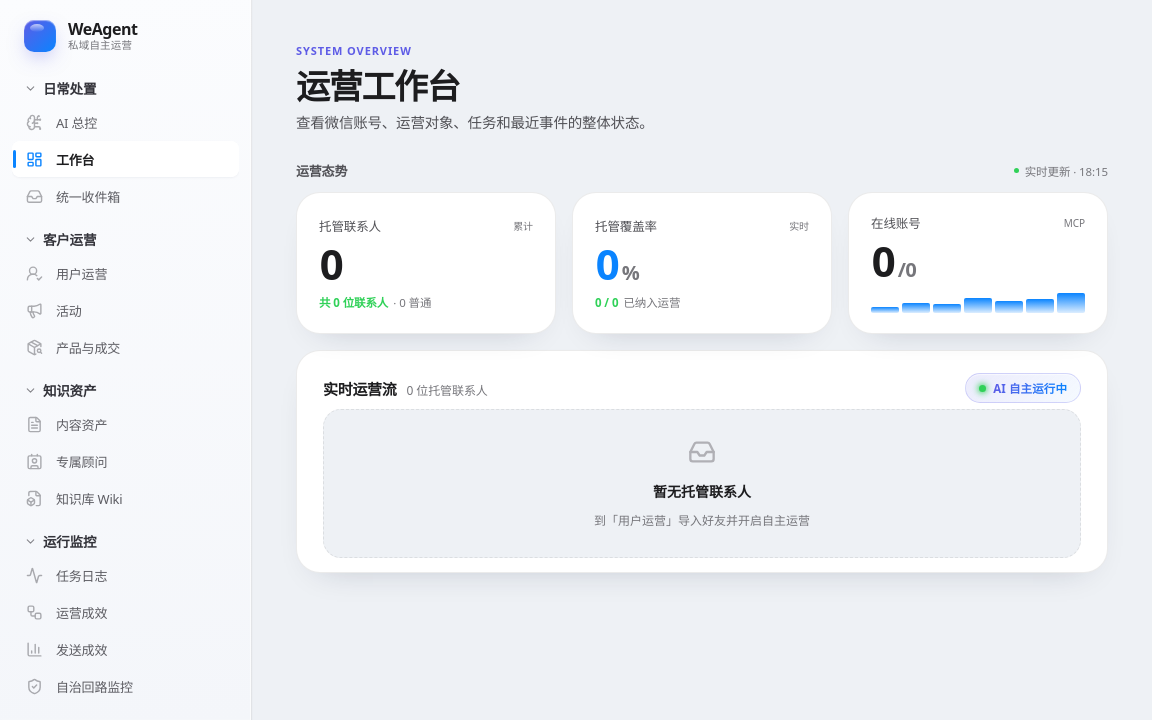
Shell 导航（单列 + 独立折叠） › 同一标签再点一次即展开回来（幂等开合）
The image size is (1152, 720).
Click the button with test id "nav-group-日常处置": (126, 88) [12,76,239,100]
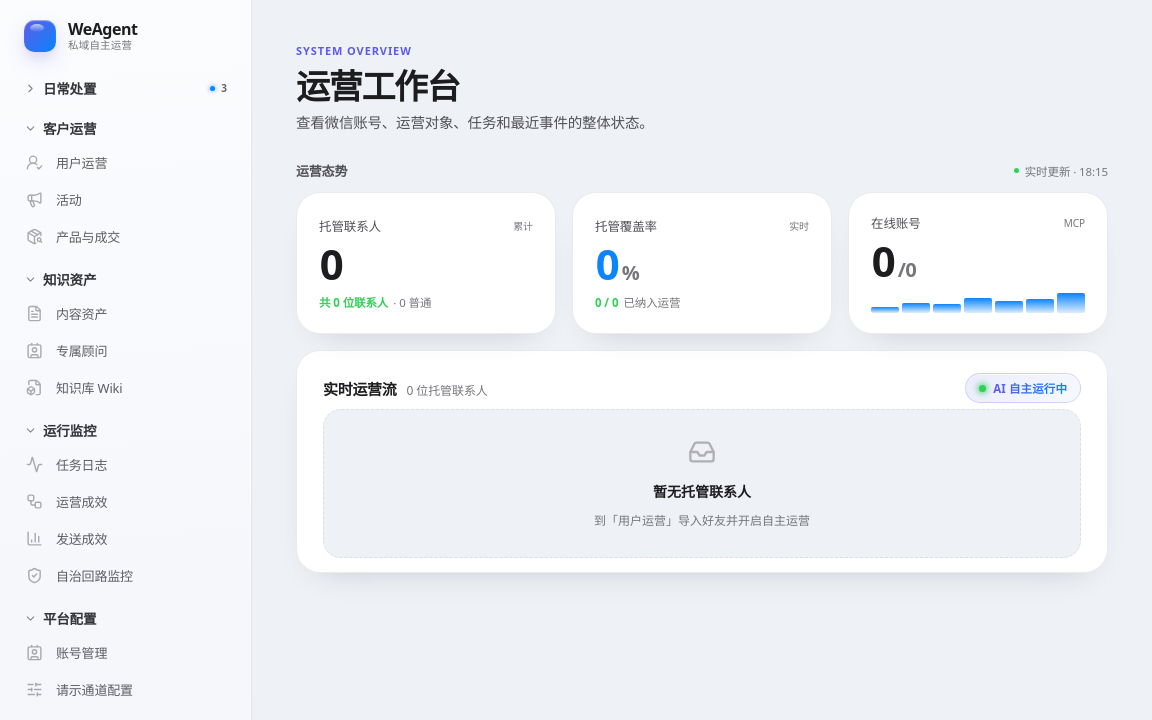
Expected: the button with test id "nav-group-日常处置" is collapsed
Click the button with test id "nav-group-日常处置": (126, 88) [12,76,239,100]
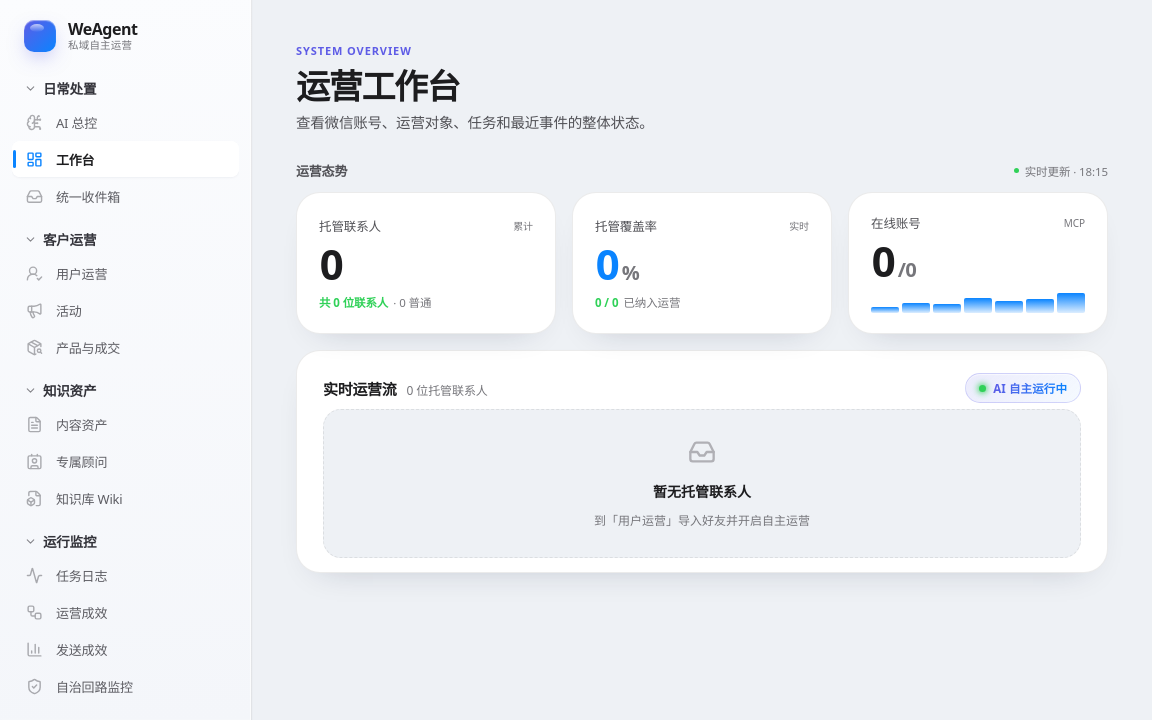
Expected: the text "工作台" is shown, [56,150,94,168]
Expected: the button with test id "nav-group-日常处置" is expanded, [12,76,239,100]
